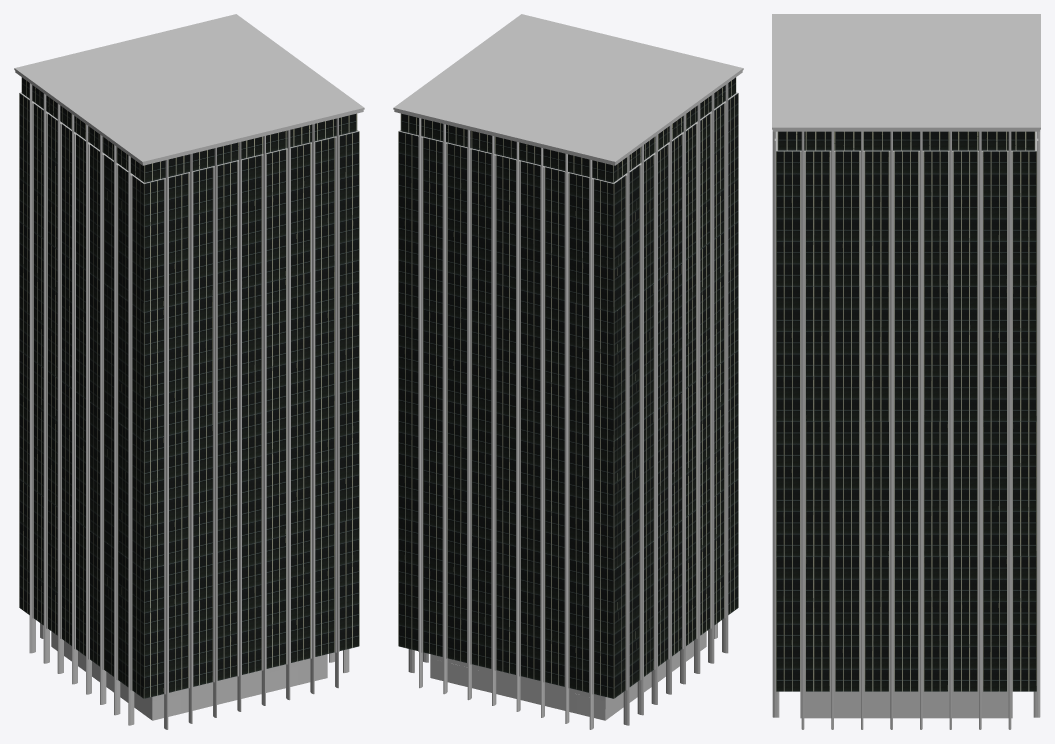
The picture shows the model from 3 angles, left to right: view 1: azimuth 30°, elevation 25°; view 2: azimuth 150°, elevation 25°; view 3: azimuth 270°, elevation 25°; orthographic projection. The views are drawn at different scales.
Visible parts, largest first — view 1: EC-015; view 2: EC-015; view 3: EC-015.
Boxes of the visible parts, box(x1,y1,x2,y2) form: EC-015: box(14, 14, 364, 729); EC-015: box(393, 14, 743, 729); EC-015: box(772, 14, 1040, 729).
Size of what is drawn, in the model's own units: 32.95 by 81.5 by 32.95.
